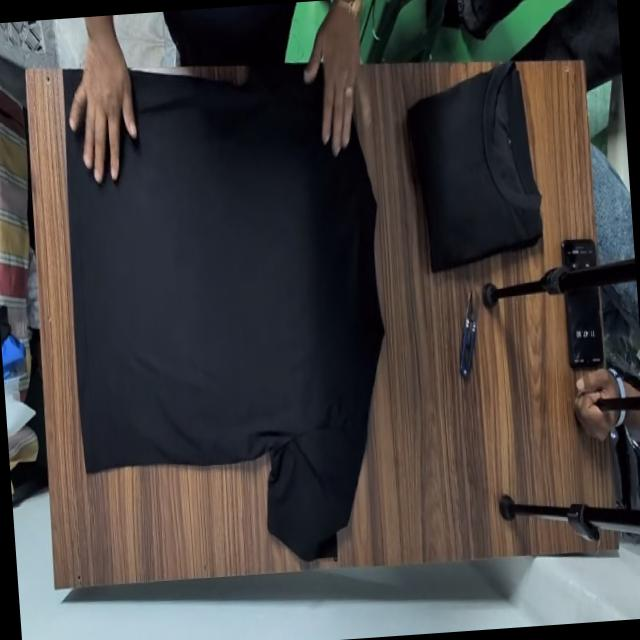new-garment: (68, 69, 383, 559)
